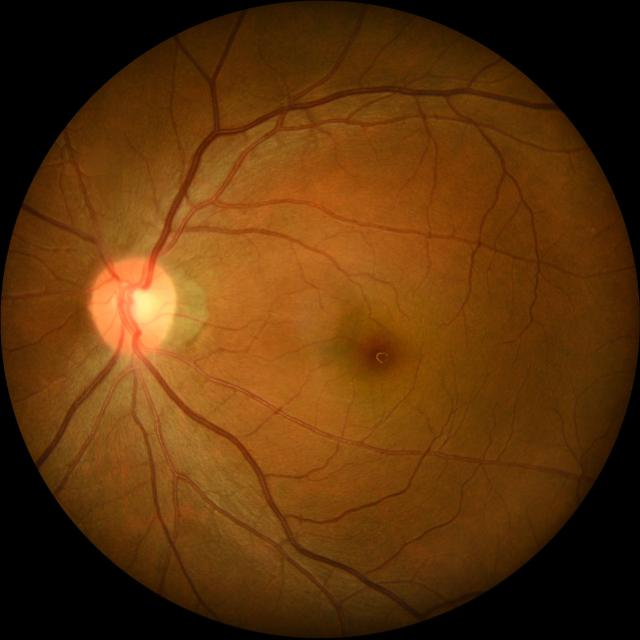OC: (118, 284, 157, 327)
OD: (89, 256, 177, 356)
